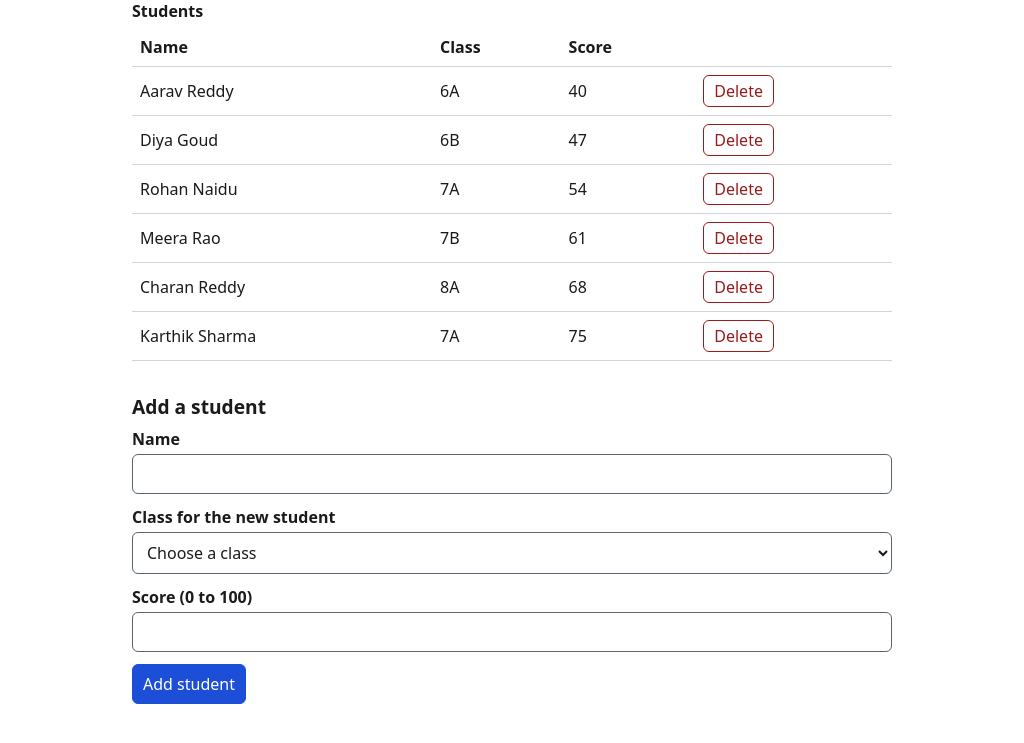
Scenario: adding a student › an empty form shows all three problems, sends nothing, and moves the cursor to the first one
(page scrolled)
Expected: the table is shown, 132,0 -> 892,361
Click the button "Add student": x=189, y=684 132,664 -> 246,704
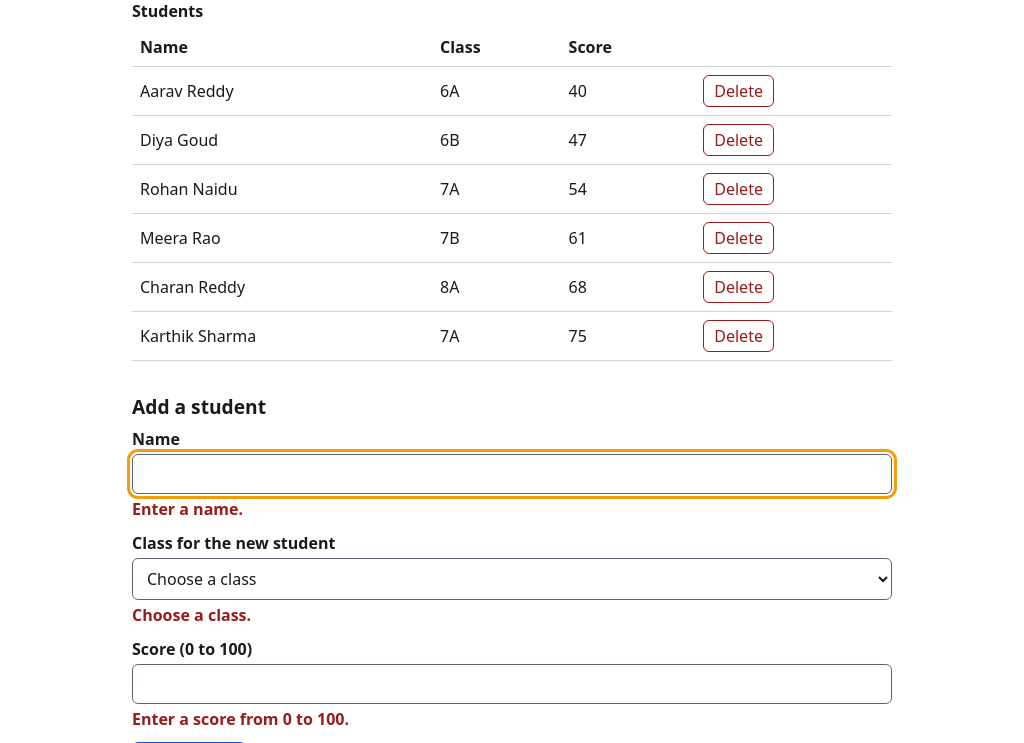
Expected: the text "Enter a name." is shown, 132,498 -> 243,520
Expected: the text "Choose a class." is shown, 132,604 -> 251,626
Expected: the text "Enter a score from 0 to 100." is shown, 132,708 -> 349,730
